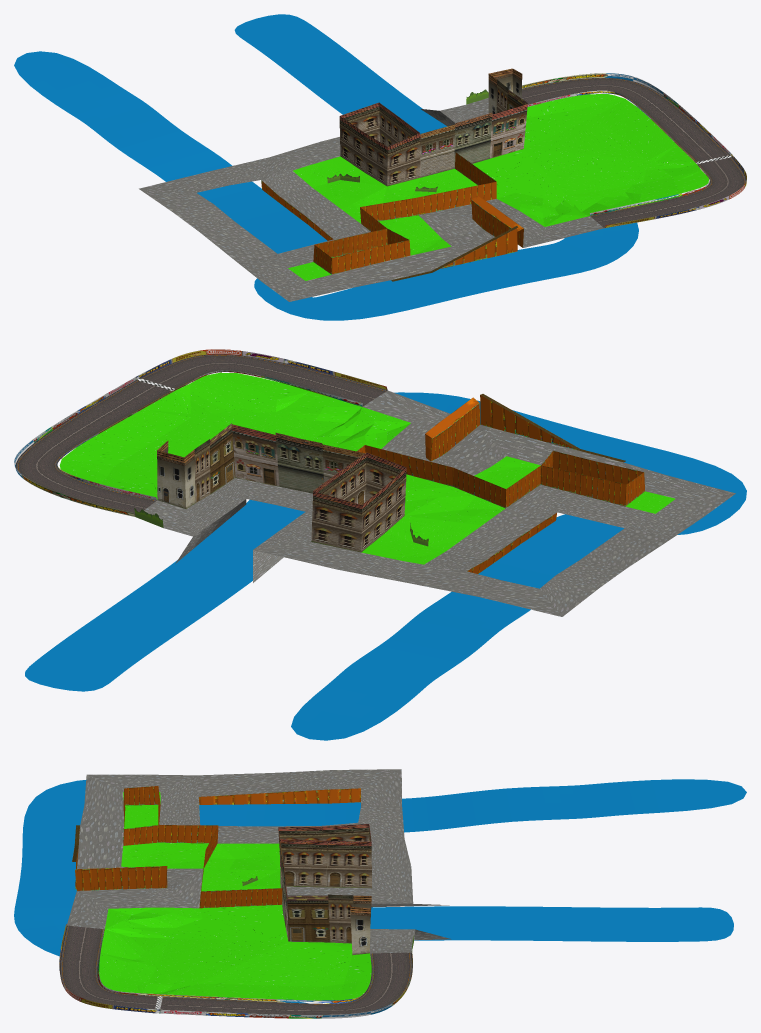
Rendered from Irsu Circuit brres.dae.
3 renders of one model, top to bottom at view 1: azimuth 30°, elevation 25°; view 2: azimuth 150°, elevation 25°; view 3: azimuth 270°, elevation 25°, orthographic. The views are drawn at different scales.
Parts seen in each view (by area): view 1: water, grass, townroad, houses, fence, raceroad, ads 1, ads 2; view 2: water, townroad, grass, houses, raceroad, fence, ads 1, ads 2; view 3: water, grass, townroad, houses, raceroad, fence, ads 1, ads 2.
Part boxes in pixels (x1,y1,x2,y2): water: (14,14,638,320); grass: (288,94,708,280); townroad: (139,98,603,301); houses: (339,68,527,186); fence: (261,152,523,274); raceroad: (521,78,746,227); ads 1: (522,73,730,215); ads 2: (604,152,746,228); water: (25,392,746,740); townroad: (144,390,735,616); grass: (59,372,675,564); houses: (157,423,406,552); raceroad: (15,354,387,515); fence: (322,395,644,573); ads 1: (14,370,362,516); ads 2: (136,349,387,390); water: (14,779,746,956); grass: (99,792,373,1000); townroad: (67,769,451,953); houses: (278,824,371,955); raceroad: (60,925,412,1014); fence: (75,786,360,908); ads 1: (97,927,412,1018); ads 2: (59,924,160,1013).
Bounding box in the file's own units: 49761 × 6490 × 60452.
